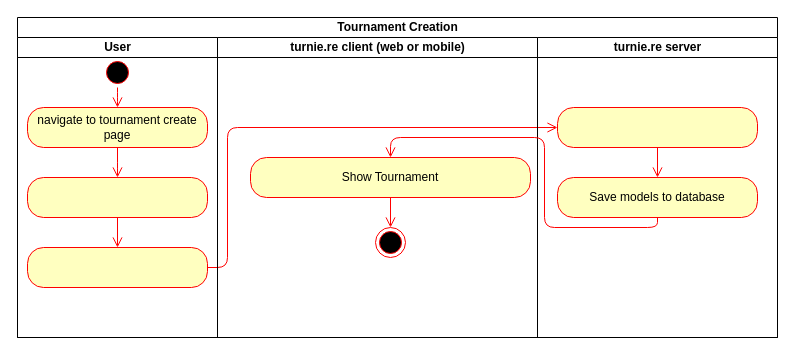
This 795x355 diagram has some shape labels left out. Here are the shapes that lost their labels. From the top down, the centre of each, then its label:
(657,127): Generate required models
(117,197): enter Tournament details
(117,267): click on 'Turnier erstellen'
